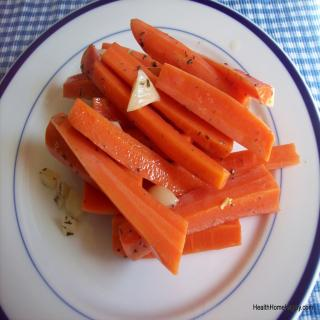Carrot: (46, 20, 302, 262), (65, 96, 199, 198)
